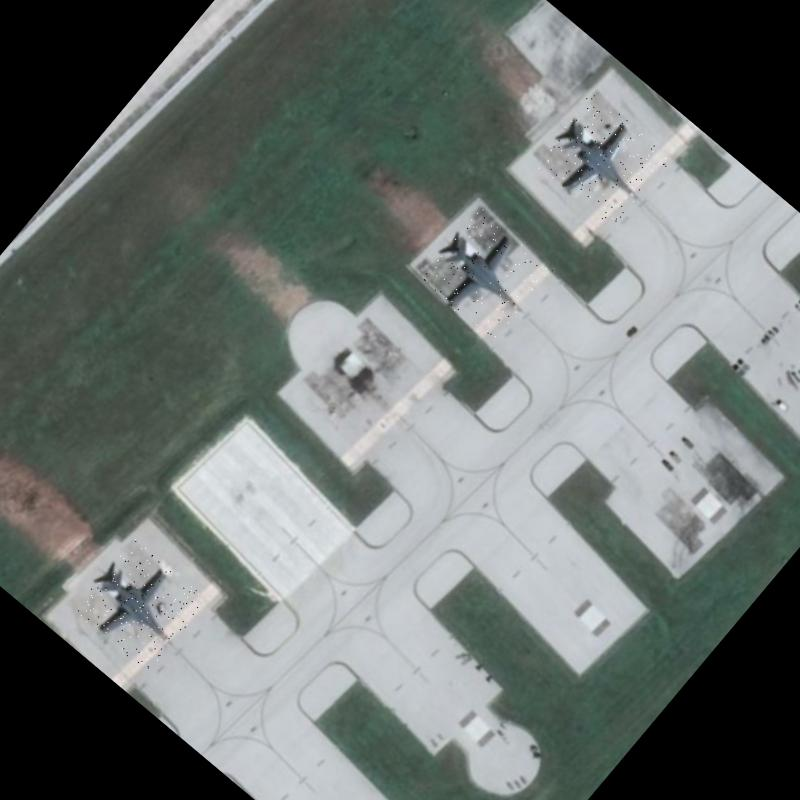A10: (530, 90, 672, 231), (418, 206, 555, 344), (70, 537, 208, 674)
